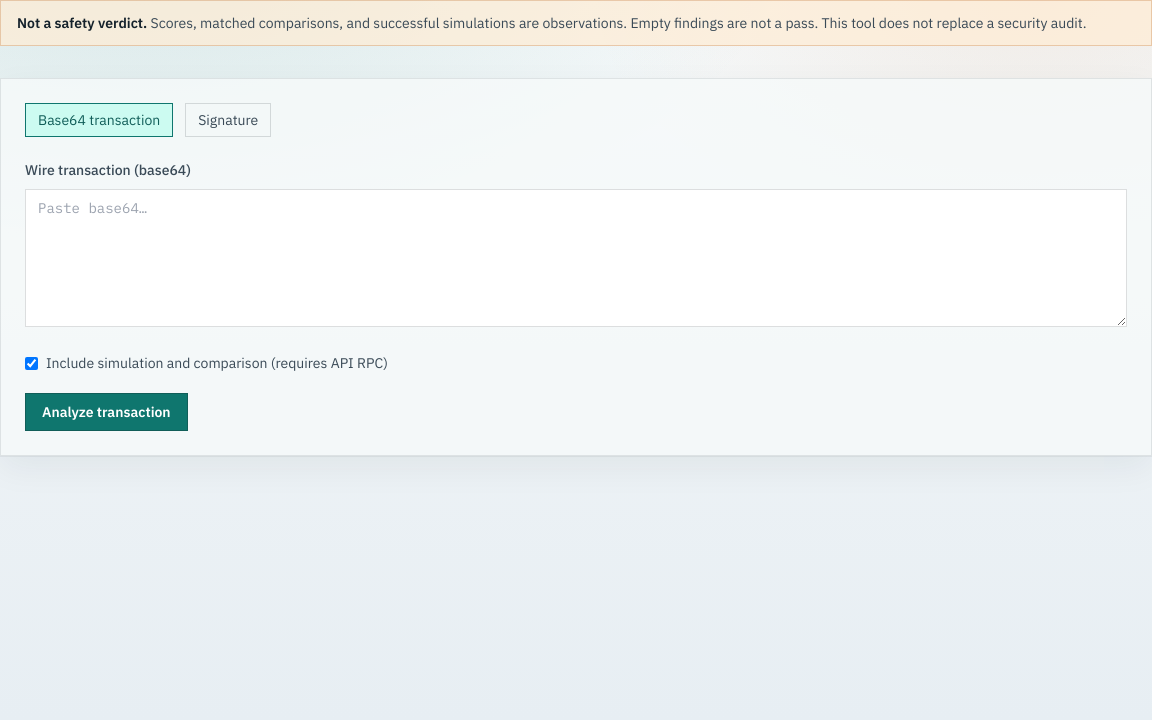
Test: AnalyzeForm › surfaces API and network failures
Type "dGVzdA==" into the text box with placeholder "Paste base64…" at {"x": 576, "y": 258}, box [25,189,1127,327]
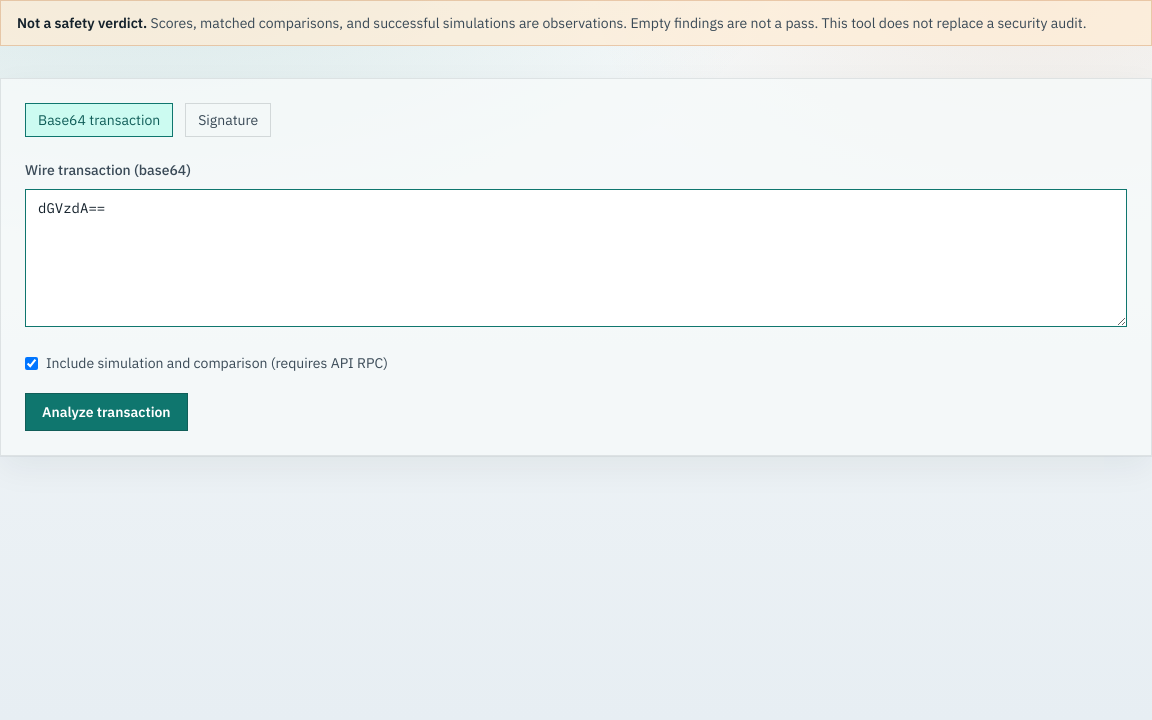
Click the button "Analyze transaction" at {"x": 106, "y": 412}, box [25,393,188,431]
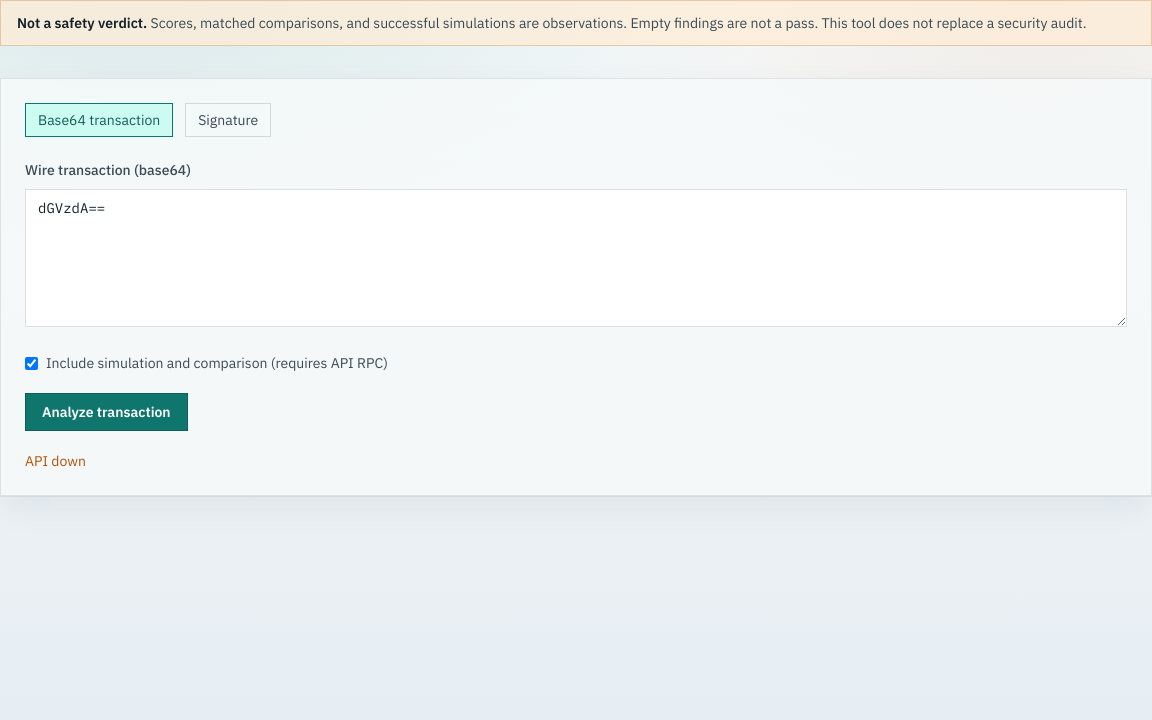
Check: the text "API down" is shown, box [25,452,86,470]
Click the button "Analyze transaction" at {"x": 106, "y": 412}, box [25,393,188,431]
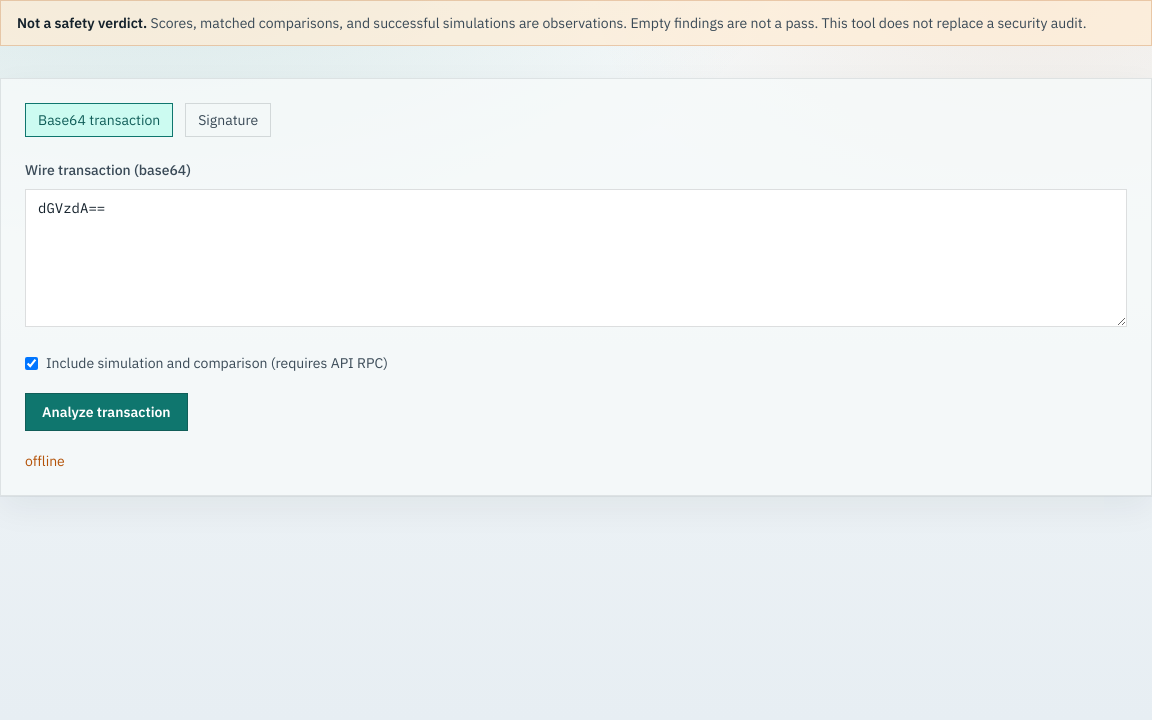
Check: the text "offline" is shown, box [25,452,65,470]
